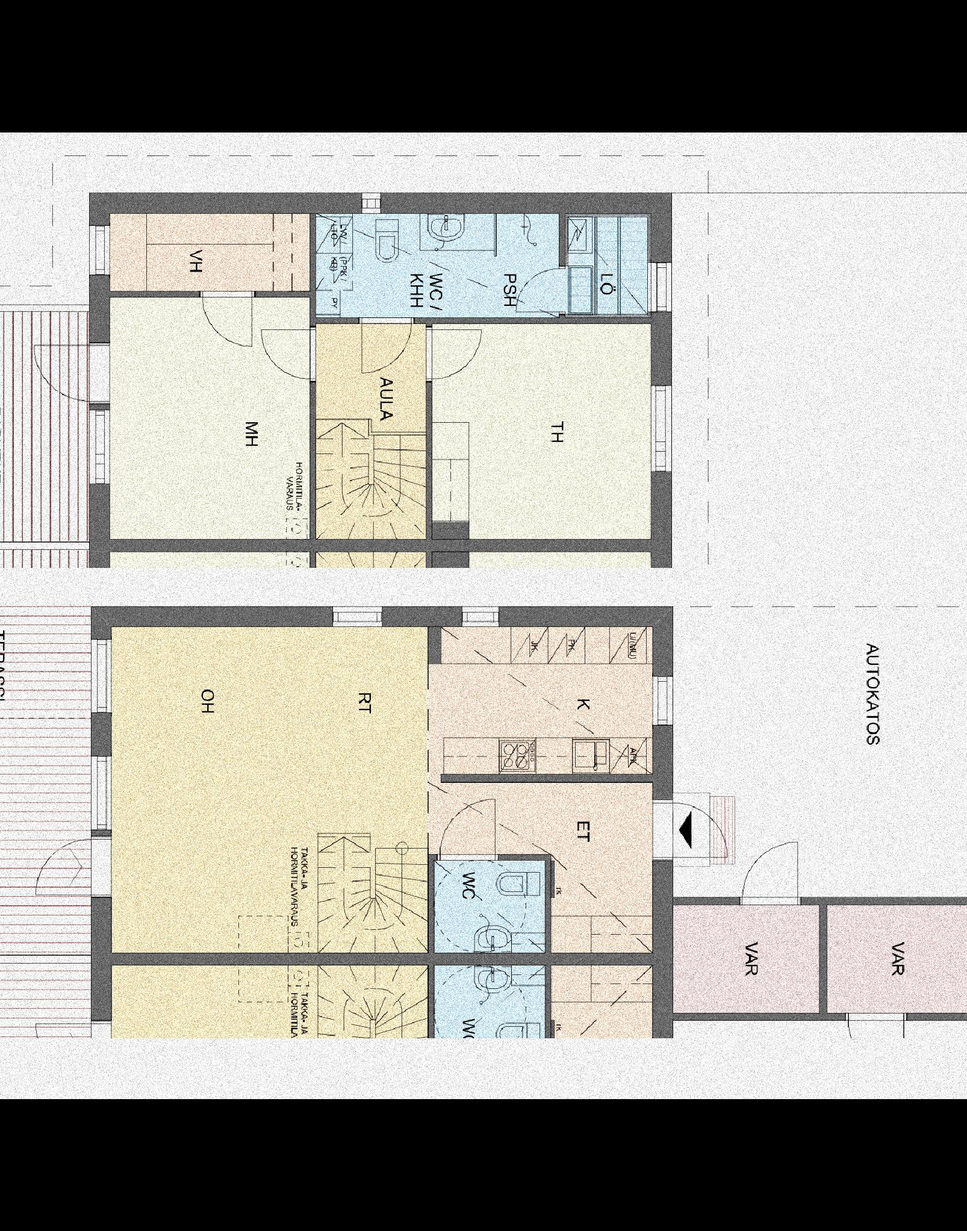door: (23, 829, 110, 901), (27, 336, 109, 404), (658, 794, 738, 860), (257, 318, 324, 388), (744, 836, 809, 906), (442, 797, 503, 867), (428, 318, 488, 381), (202, 286, 255, 349), (361, 314, 410, 379), (515, 267, 569, 310)
window: (648, 385, 671, 472), (90, 640, 111, 717), (84, 409, 104, 485), (647, 258, 673, 316), (91, 755, 110, 828), (90, 223, 113, 278), (653, 673, 676, 715)
zone: (109, 627, 425, 953), (108, 294, 305, 545), (432, 325, 648, 532), (0, 610, 90, 1034), (433, 788, 653, 951), (427, 628, 652, 776), (319, 217, 645, 313), (312, 322, 427, 537), (0, 304, 83, 568), (673, 906, 819, 1015), (826, 902, 967, 1014), (107, 214, 305, 288), (432, 862, 544, 956)
